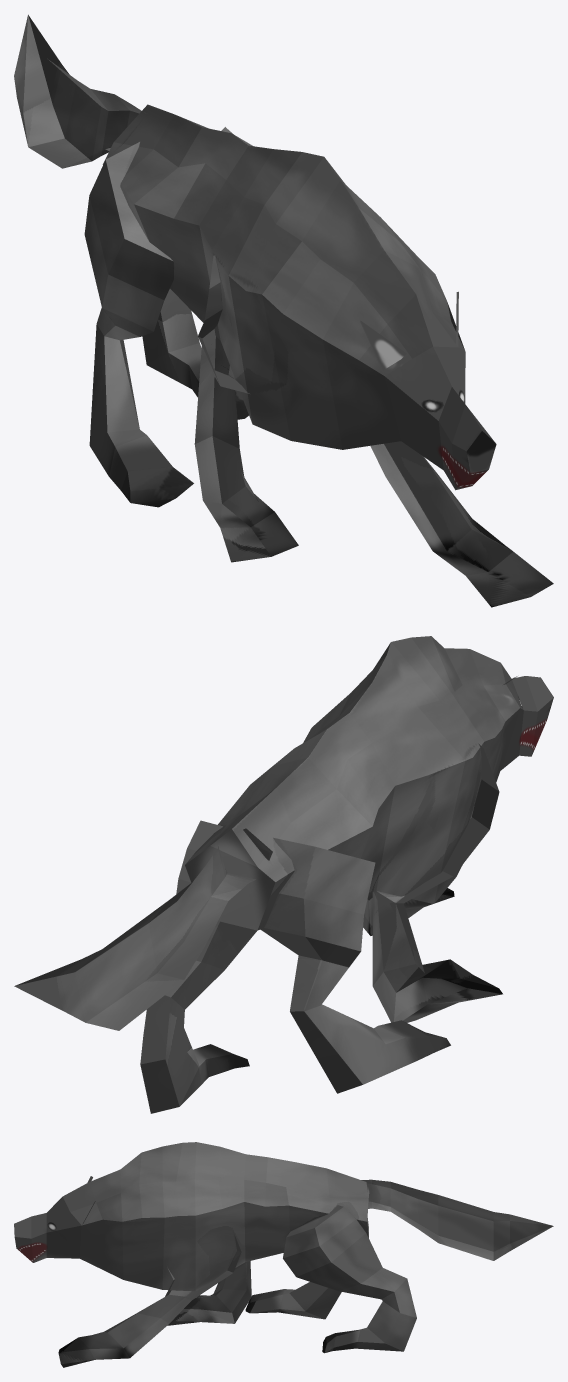
File: Wolf.glb
3 views of the same model, one above another, from view 1: azimuth 30°, elevation 25°; view 2: azimuth 150°, elevation 25°; view 3: azimuth 270°, elevation 25° (orthographic). The views are drawn at different scales.
Visible parts, largest first — view 1: Wolf; view 2: Wolf; view 3: Wolf.
Boxes of the visible parts, bbox=[...] form: Wolf: bbox=[14, 14, 553, 607]; Wolf: bbox=[14, 636, 553, 1113]; Wolf: bbox=[14, 1142, 553, 1367].
Bounding box in the file's own units: 0.4883 × 0.7164 × 1.77.
1 material, 1 textured.
